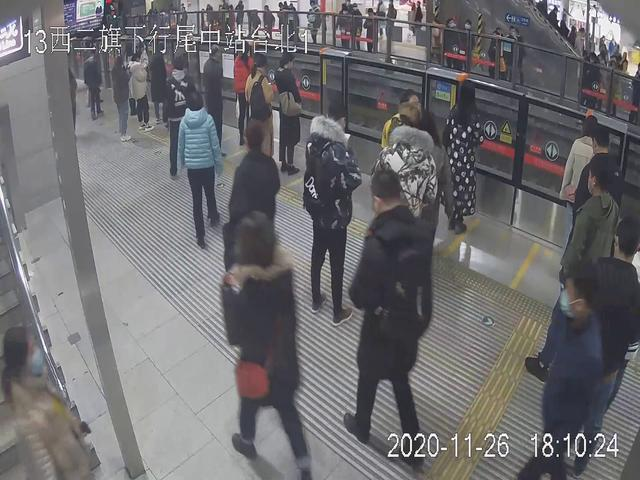person: (345, 169, 434, 468), (221, 213, 313, 480), (517, 264, 610, 480), (528, 157, 620, 373), (1, 326, 93, 480), (584, 217, 640, 422), (306, 101, 353, 323), (179, 92, 227, 247), (225, 120, 276, 258), (576, 132, 617, 280), (443, 78, 480, 236), (163, 56, 199, 175), (272, 51, 302, 177), (247, 52, 277, 170), (202, 41, 229, 155), (233, 43, 260, 147), (109, 54, 134, 142), (126, 49, 149, 126), (81, 48, 104, 123)
